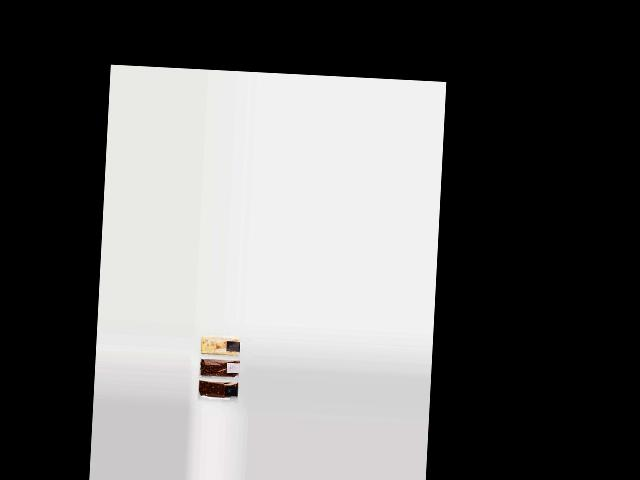chocolate: (194, 378, 237, 404)
